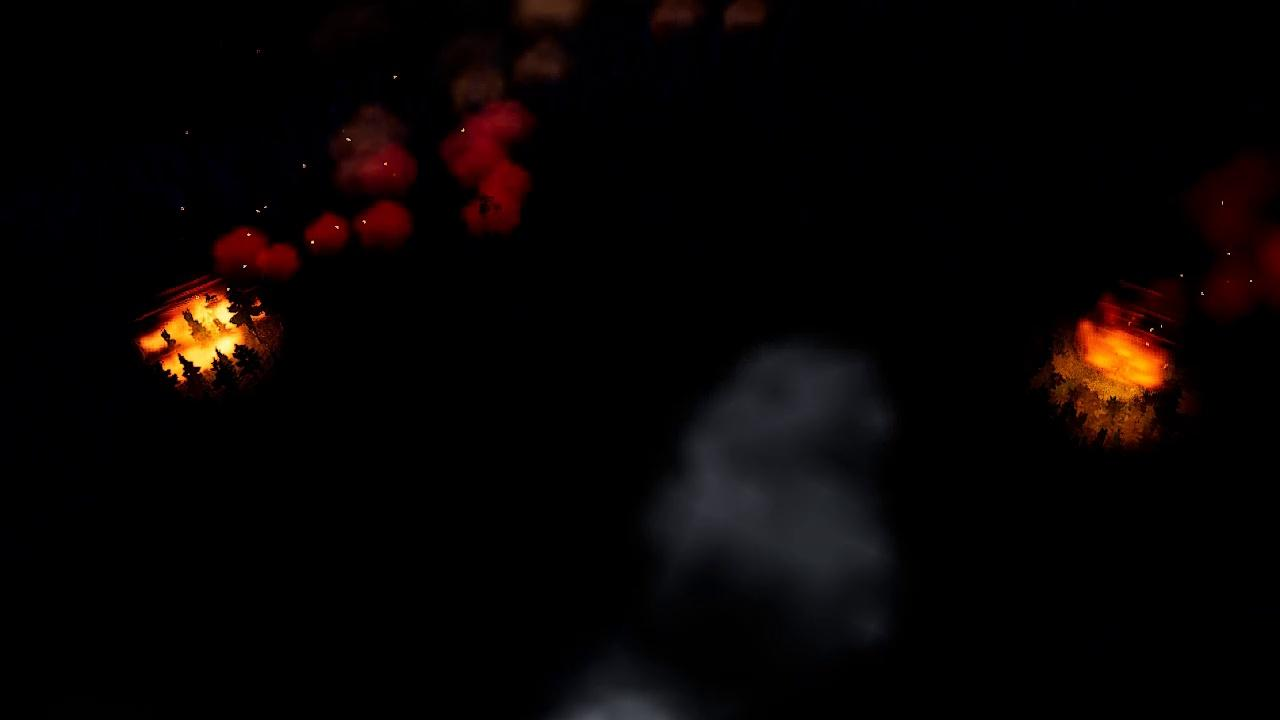fire: (1073, 301, 1175, 397), (140, 293, 259, 370)
smoke: (209, 4, 576, 287), (650, 339, 905, 659), (1153, 148, 1280, 323), (516, 679, 739, 720)
